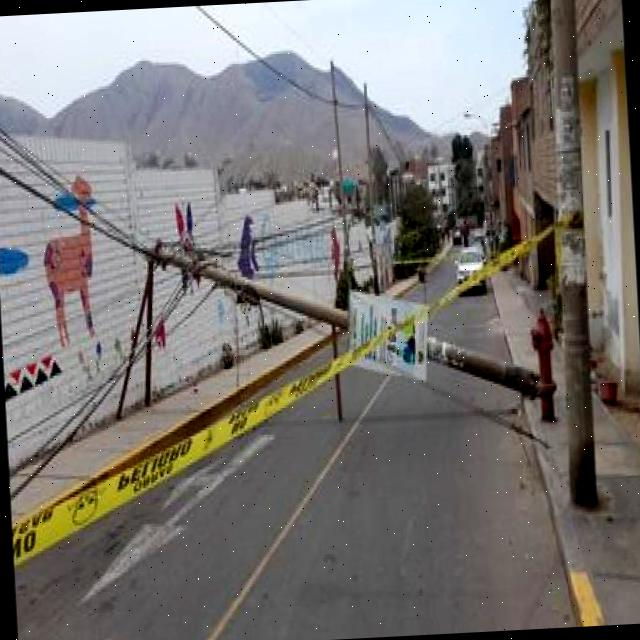Broken Pole: (150, 228, 538, 423)
